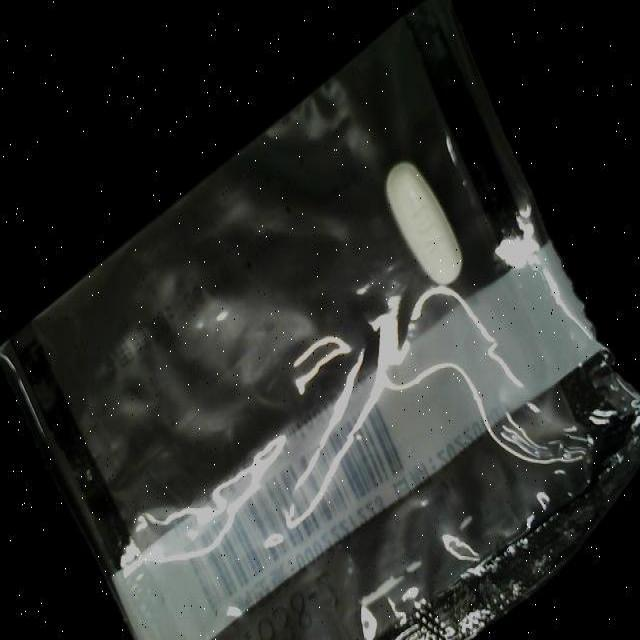pill: (378, 148, 464, 292)
